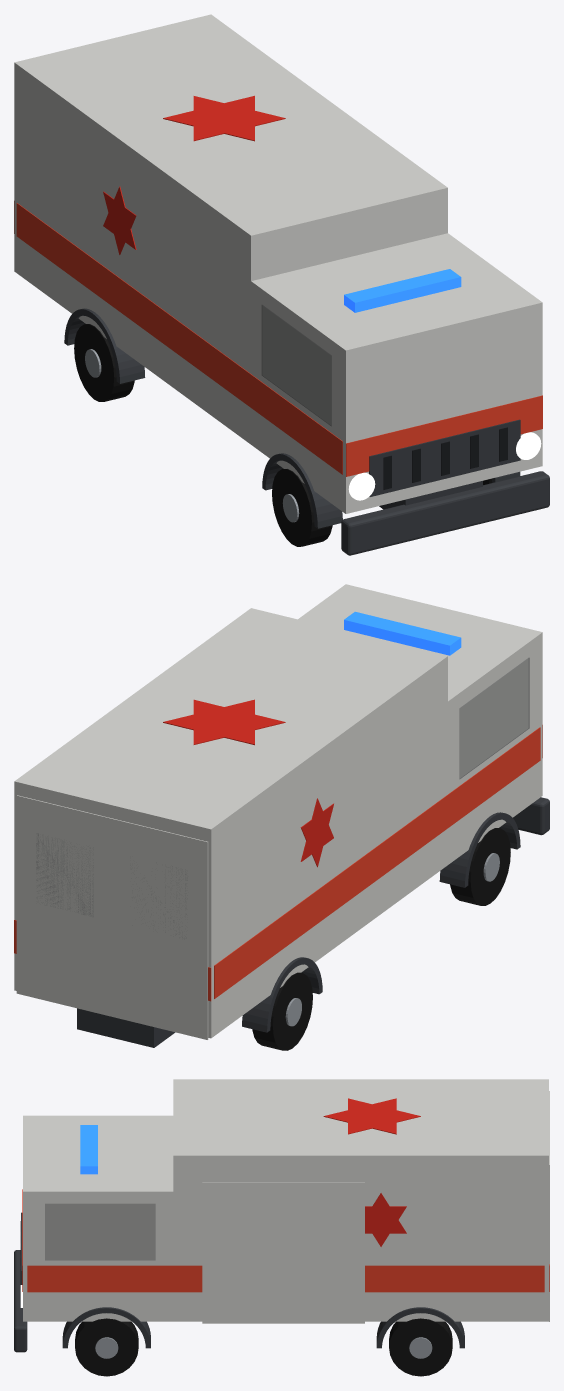
Rendered from ambulance.glb.
3 views of the same model, one above another, from view 1: azimuth 30°, elevation 25°; view 2: azimuth 150°, elevation 25°; view 3: azimuth 270°, elevation 25° (orthographic). The views are drawn at different scales.
Parts seen in each view (by area): view 1: Box, Cab, Stripe, Bumper, Glass, Grille, EmblemTop, WheelRL, WheelFL, FenderFL, FenderRL, LightBarL (+3 smaller); view 2: Box, RearDoorL_f, RearDoorR_f, Cab, Stripe, Glass, EmblemTop, WheelRL, WheelFL, Chassis, FenderFL, FenderRL (+4 smaller); view 3: Box, Cab, SideDoor_f, Stripe, Glass, WheelFR, WheelRR, EmblemTop, EmblemR, Bumper, FenderFR, FenderRR (+2 smaller).
Part boxes in pixels (x1,y1,x2,y2): Box: [14, 14, 447, 444]; Cab: [251, 233, 542, 513]; Stripe: [14, 201, 542, 476]; Bumper: [341, 471, 549, 555]; Glass: [260, 305, 331, 428]; Grille: [369, 419, 520, 496]; EmblemTop: [163, 95, 285, 141]; WheelRL: [74, 324, 134, 401]; WheelFL: [272, 468, 332, 546]; FenderFL: [262, 453, 342, 528]; FenderRL: [64, 308, 145, 383]; LightBarL: [344, 282, 407, 312]; Box: [14, 608, 447, 1038]; RearDoorL_f: [111, 818, 208, 1039]; RearDoorR_f: [16, 795, 113, 1016]; Cab: [298, 584, 542, 864]; Stripe: [14, 725, 542, 1001]; Glass: [38, 652, 530, 913]; EmblemTop: [163, 699, 285, 745]; WheelRL: [252, 972, 312, 1050]; WheelFL: [450, 828, 510, 905]; Chassis: [77, 1008, 175, 1047]; FenderFL: [439, 812, 520, 887]; FenderRL: [242, 957, 322, 1032]; Box: [173, 1079, 548, 1321]; Cab: [23, 1115, 173, 1321]; SideDoor_f: [202, 1182, 364, 1323]; Stripe: [22, 1189, 549, 1292]; Glass: [41, 1200, 158, 1262]; WheelFR: [75, 1318, 138, 1376]; WheelRR: [389, 1318, 452, 1376]; EmblemTop: [323, 1098, 420, 1134]; EmblemR: [365, 1193, 406, 1246]; Bumper: [14, 1250, 27, 1352]; FenderFR: [62, 1307, 150, 1348]; FenderRR: [376, 1307, 464, 1348].
Bounding box in the file's own units: 2.1 × 2.77 × 6.06.
